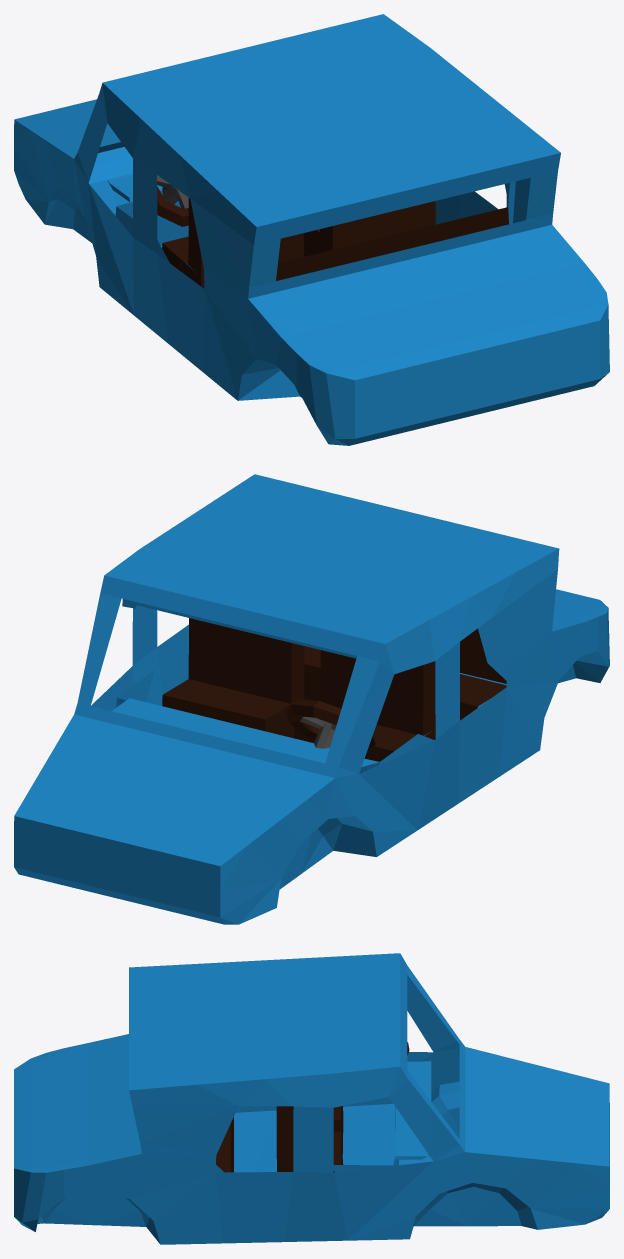
The model's file is offroadcar.obj.
3 views of the same model, one above another, from view 1: azimuth 30°, elevation 25°; view 2: azimuth 150°, elevation 25°; view 3: azimuth 270°, elevation 25° (orthographic). The views are drawn at different scales.
Visible parts, largest first — view 1: Plane; view 2: Plane; view 3: Plane.
Part boxes in pixels (bbox=[...]): Plane: bbox=[14, 14, 609, 445]; Plane: bbox=[14, 474, 609, 924]; Plane: bbox=[14, 953, 609, 1244].
Size of the model in its own units: 1.55 by 1.03 by 3.16.
